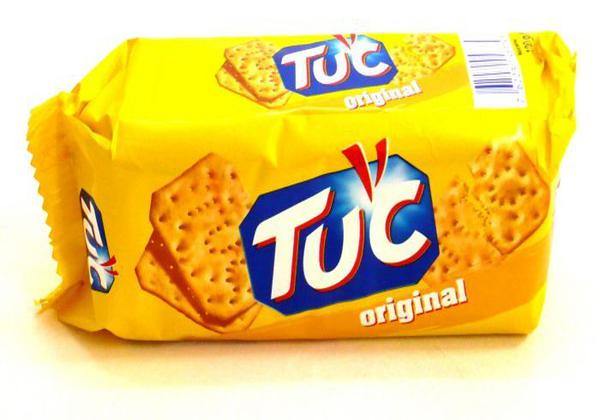crackers tuc: (66, 112, 538, 333), (136, 38, 542, 122)
